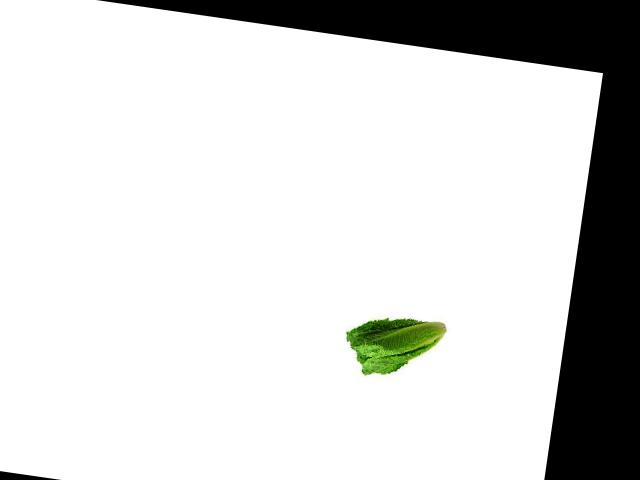lettuce: (340, 307, 456, 387)
